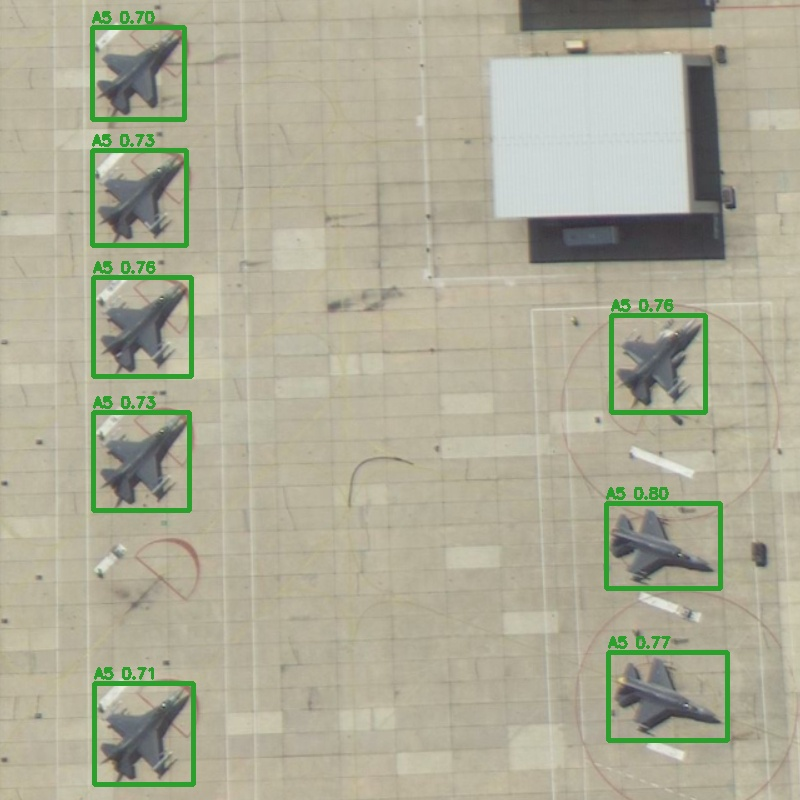A5: (608, 652, 727, 740), (94, 683, 193, 784), (93, 277, 191, 376), (606, 503, 720, 588), (93, 412, 189, 510), (611, 315, 705, 412), (92, 150, 186, 245), (92, 27, 184, 119)
